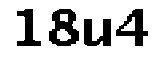1: (9, 5, 42, 52)
4: (115, 6, 151, 49)
8: (47, 4, 80, 52)
u: (83, 16, 114, 49)
